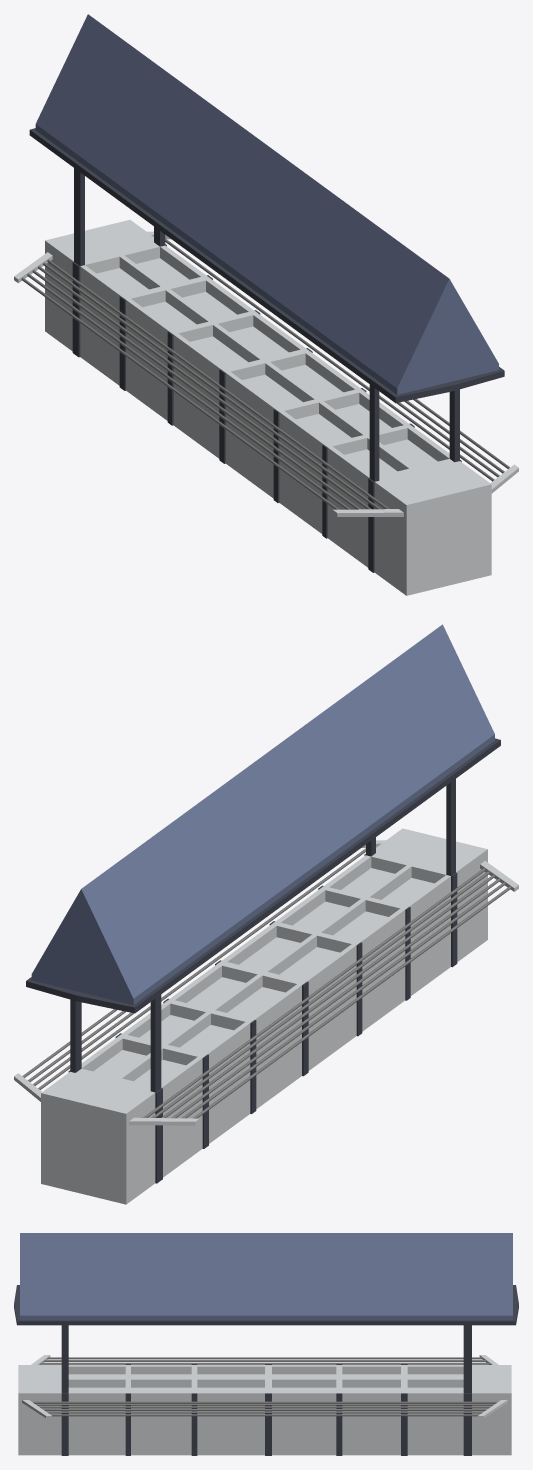
The model's file is ComptoirNourriture_02.fbx.
3 views of the same model, one above another, from view 1: azimuth 30°, elevation 25°; view 2: azimuth 150°, elevation 25°; view 3: azimuth 270°, elevation 25° (orthographic). The views are drawn at different scales.
Visible parts, largest first — view 1: Comptoir_NourritureShape; view 2: Comptoir_NourritureShape; view 3: Comptoir_NourritureShape.
Boxes of the visible parts, x1,y1,x2,y2 form: Comptoir_NourritureShape: (14, 14, 518, 595); Comptoir_NourritureShape: (14, 624, 518, 1204); Comptoir_NourritureShape: (14, 1233, 518, 1455).
Size of the model in its own units: 11.78 by 18.82 by 41.3.
